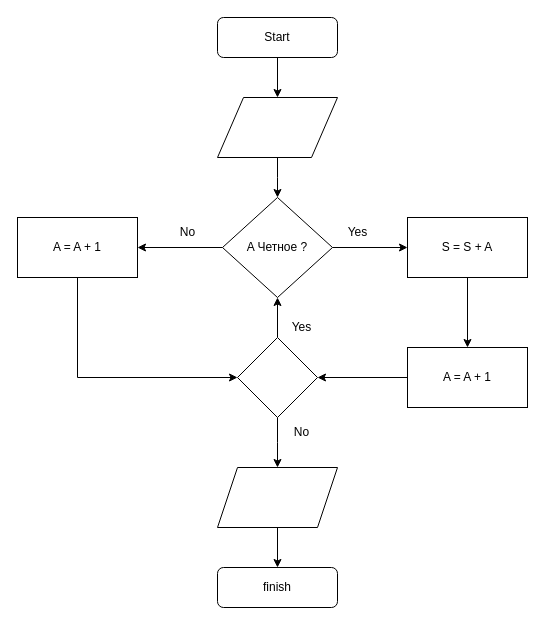
The diagram is 545 pixels wide and 625 high, and some of its shapes have lost their labels. Each missing label, with the box of its shape:
A < 16: (236, 336, 318, 418)
print(S): (216, 466, 338, 528)
S = 0 A = 1: (216, 96, 338, 158)
